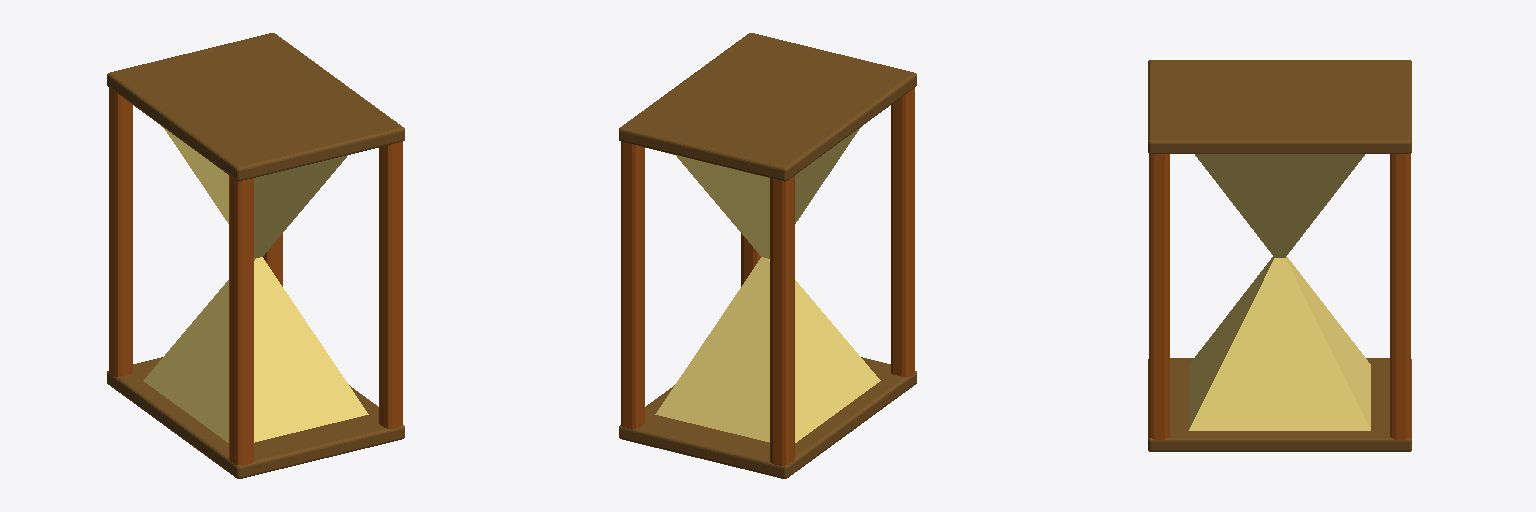
The model's file is часы.obj.
3 renders of one model, left to right at view 1: azimuth 30°, elevation 25°; view 2: azimuth 150°, elevation 25°; view 3: azimuth 270°, elevation 25°, orthographic.
Parts seen in each view (by area): view 1: часы; view 2: часы; view 3: часы.
Boxes of the visible parts, <box> form: часы: <box>107,33,404,478</box>; часы: <box>619,33,916,478</box>; часы: <box>1148,60,1411,451</box>.
Bounding box in the file's own units: 3.71 × 6.55 × 5.03.